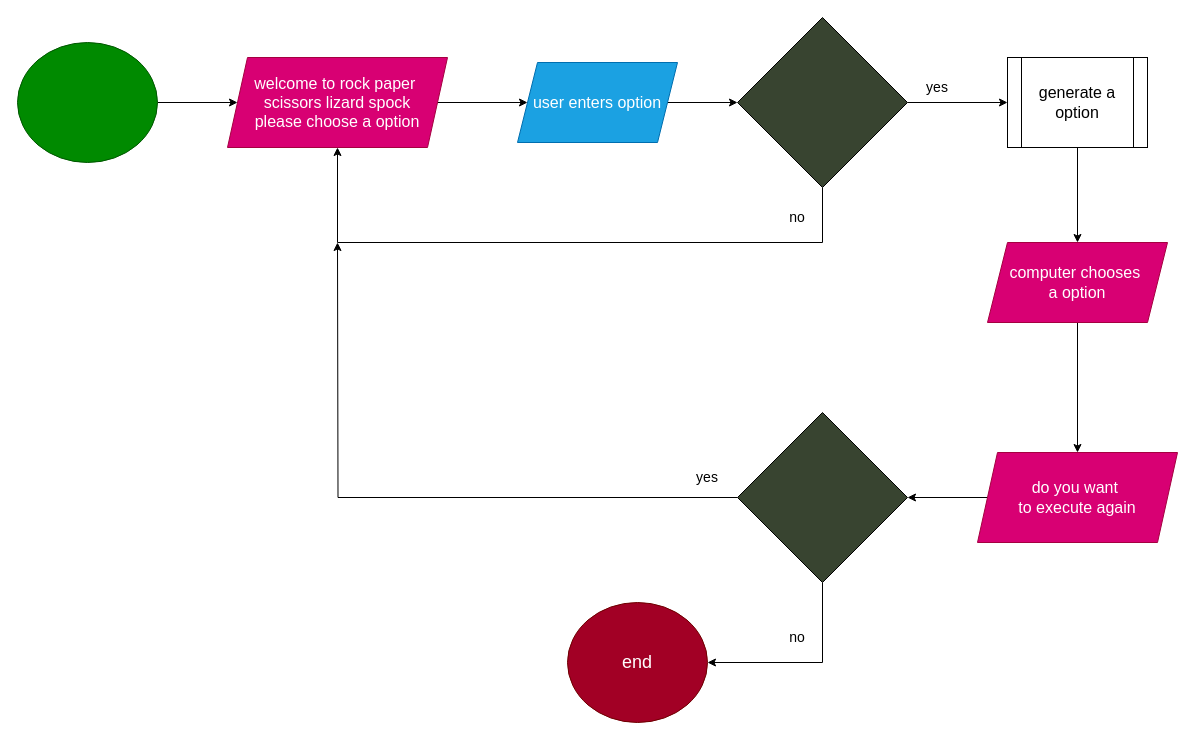
Image size: 1195x740. Some labels were removed from this diagram. Each missing label, with the centre of its shape:
"did user click execute" belongs at point 822,497.
"start" belongs at point 87,102.
"was users option valid?" belongs at point 822,102.
